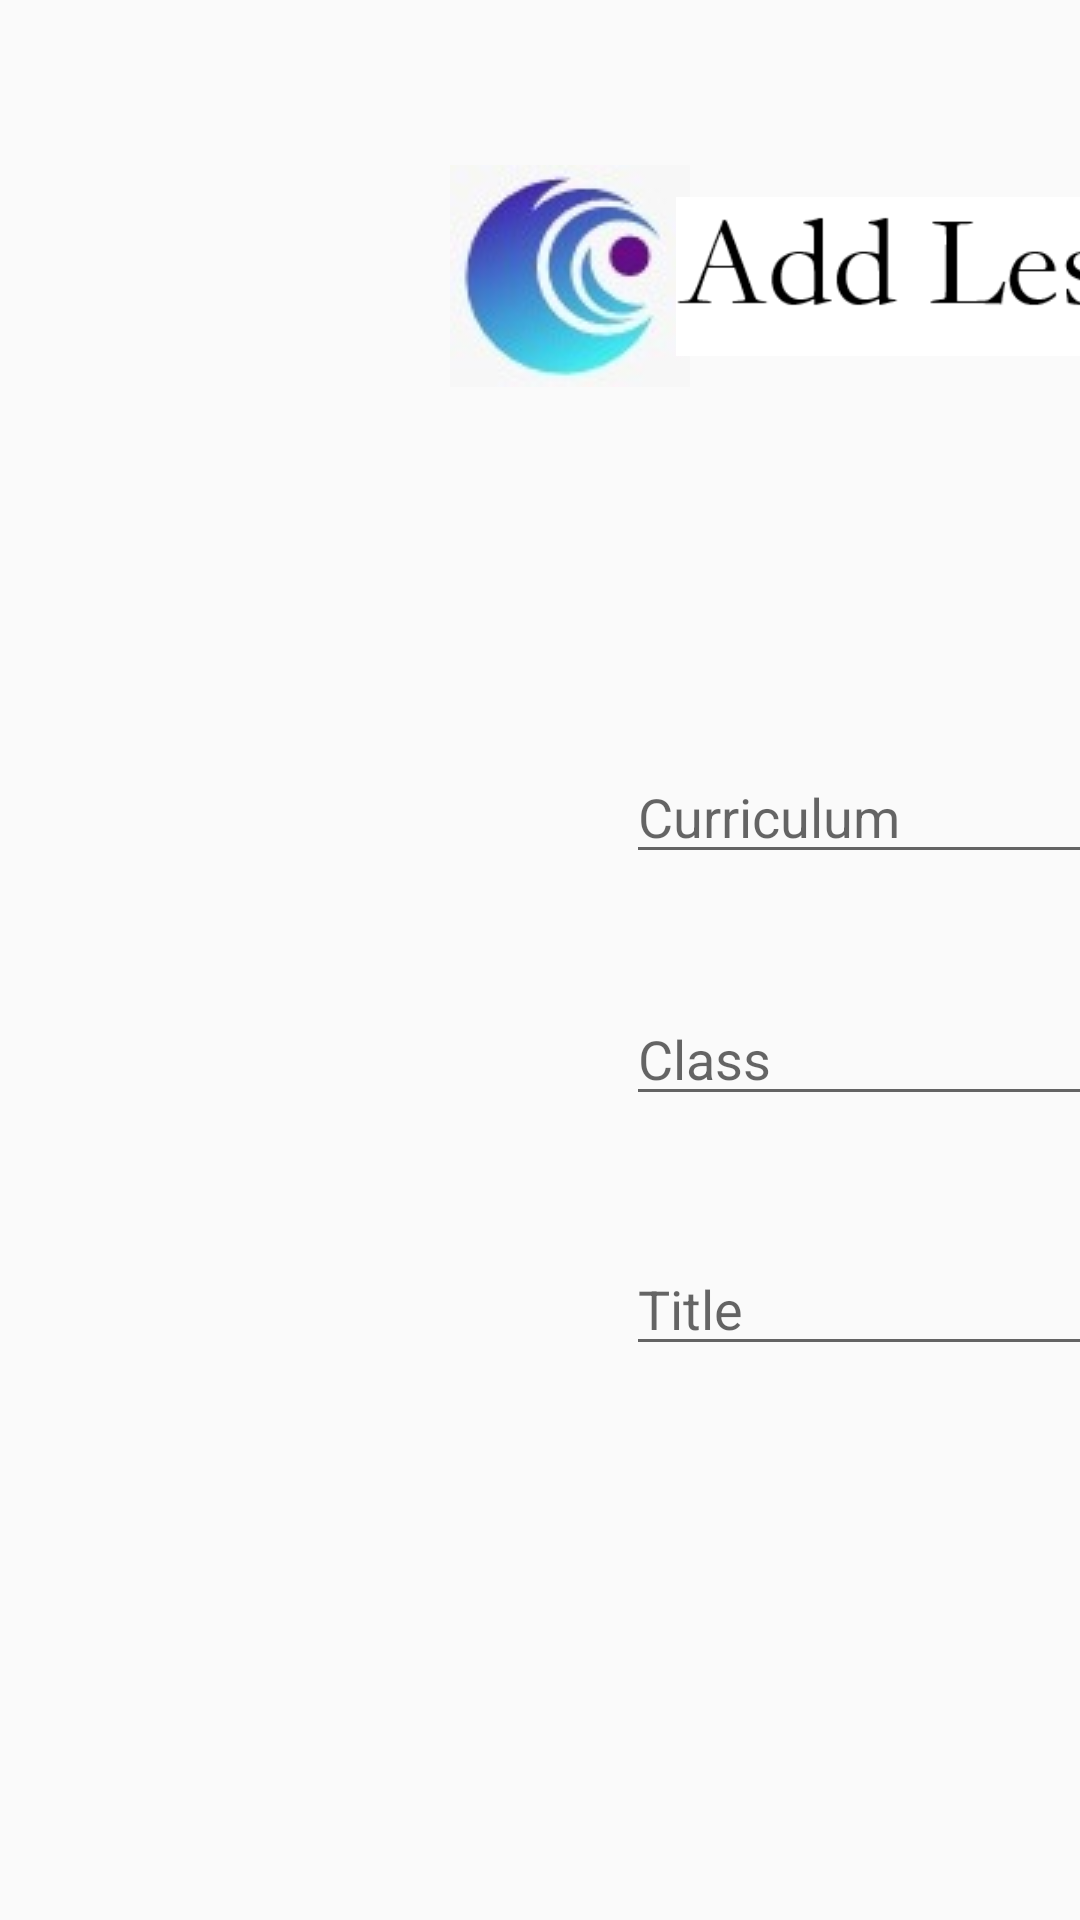

Icons on this 1080x1920 Android screen, each with the point to tap as [x,y]:
appicon: [561,277]
